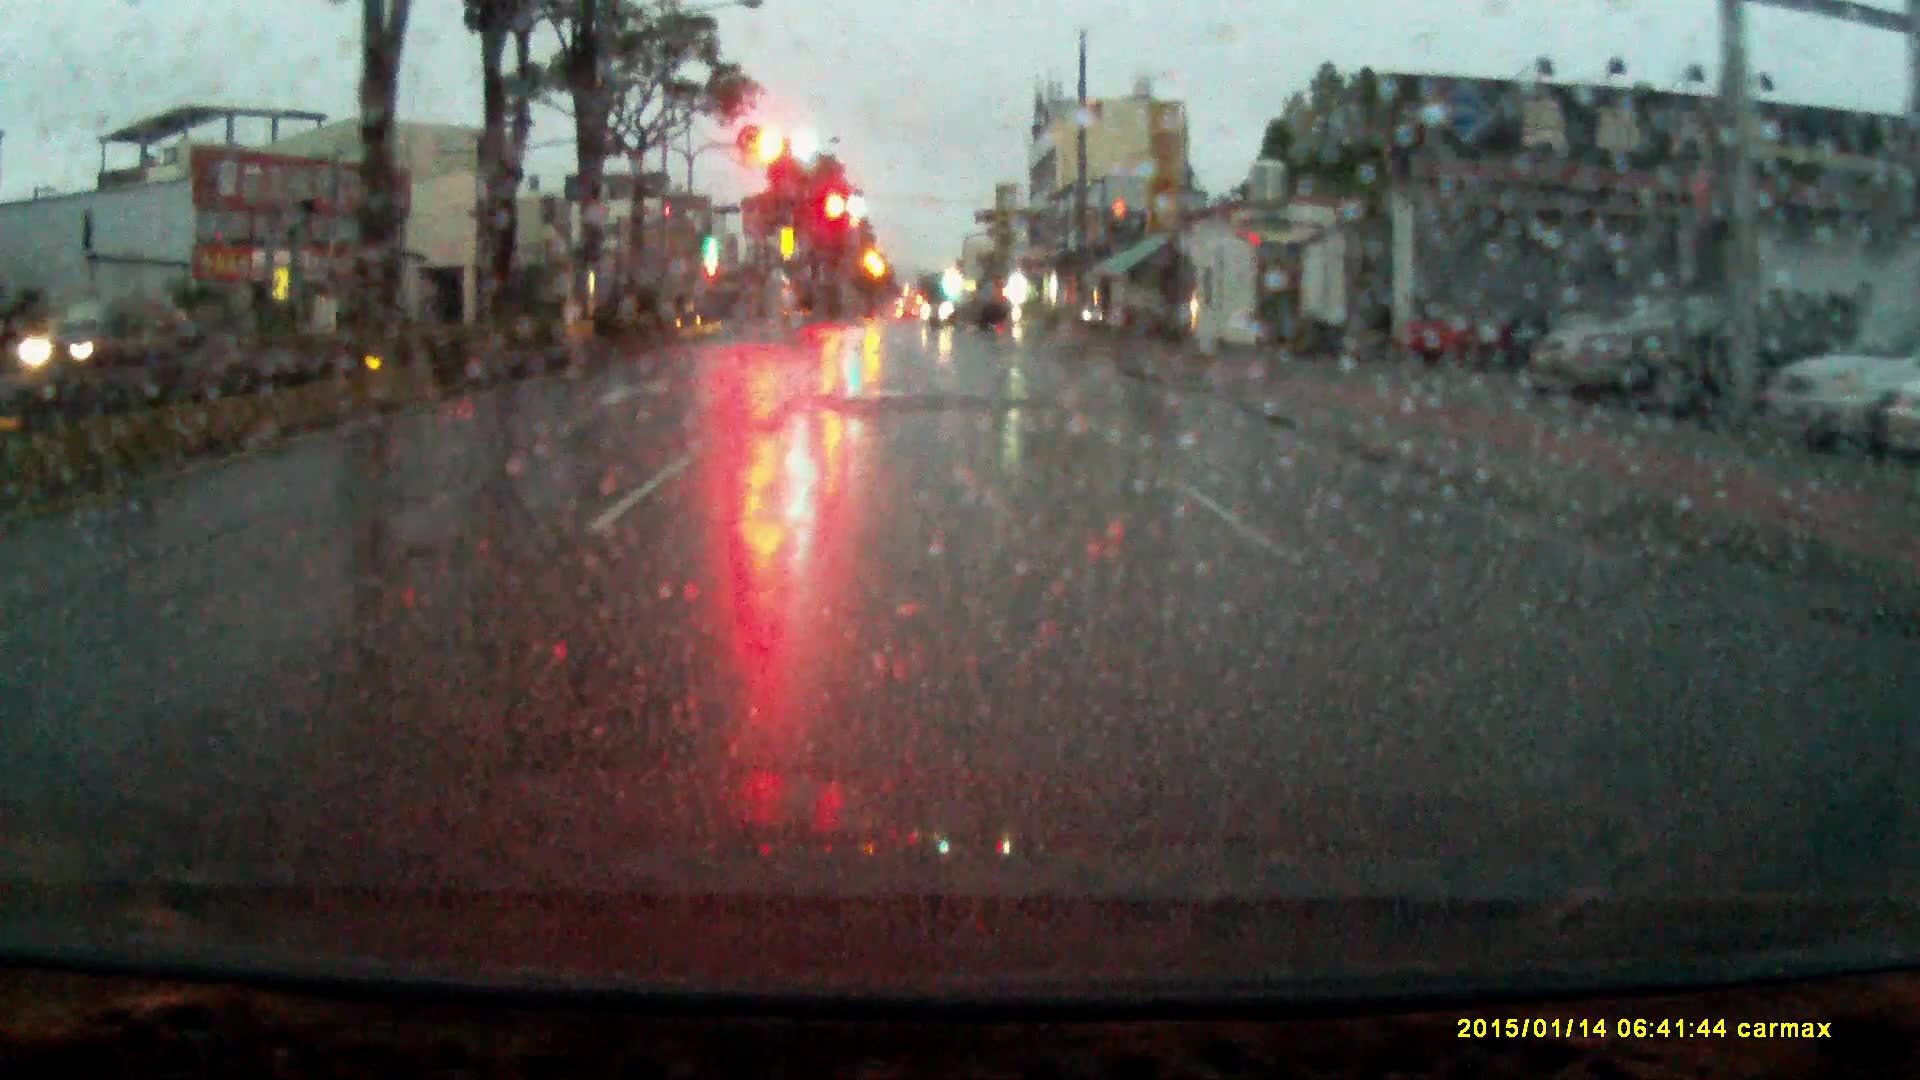vehicle: (1596, 285, 1853, 419), (1534, 284, 1800, 404), (920, 286, 1011, 332)
